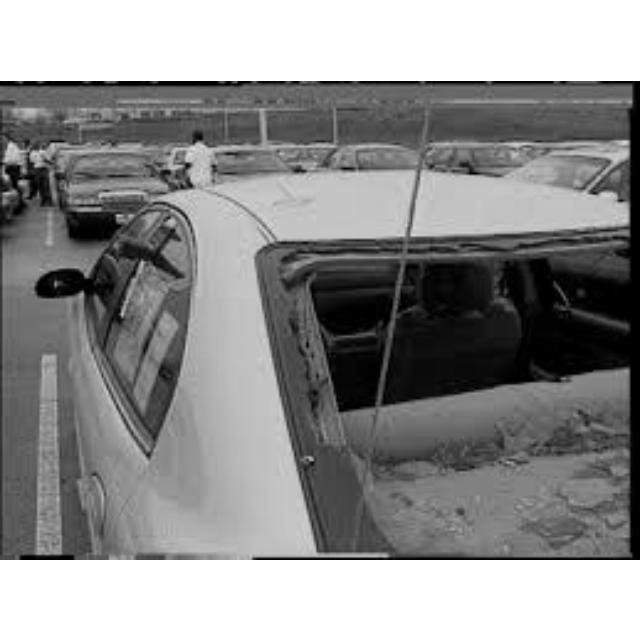Rear-windscreen-Damage: (282, 202, 635, 557)
